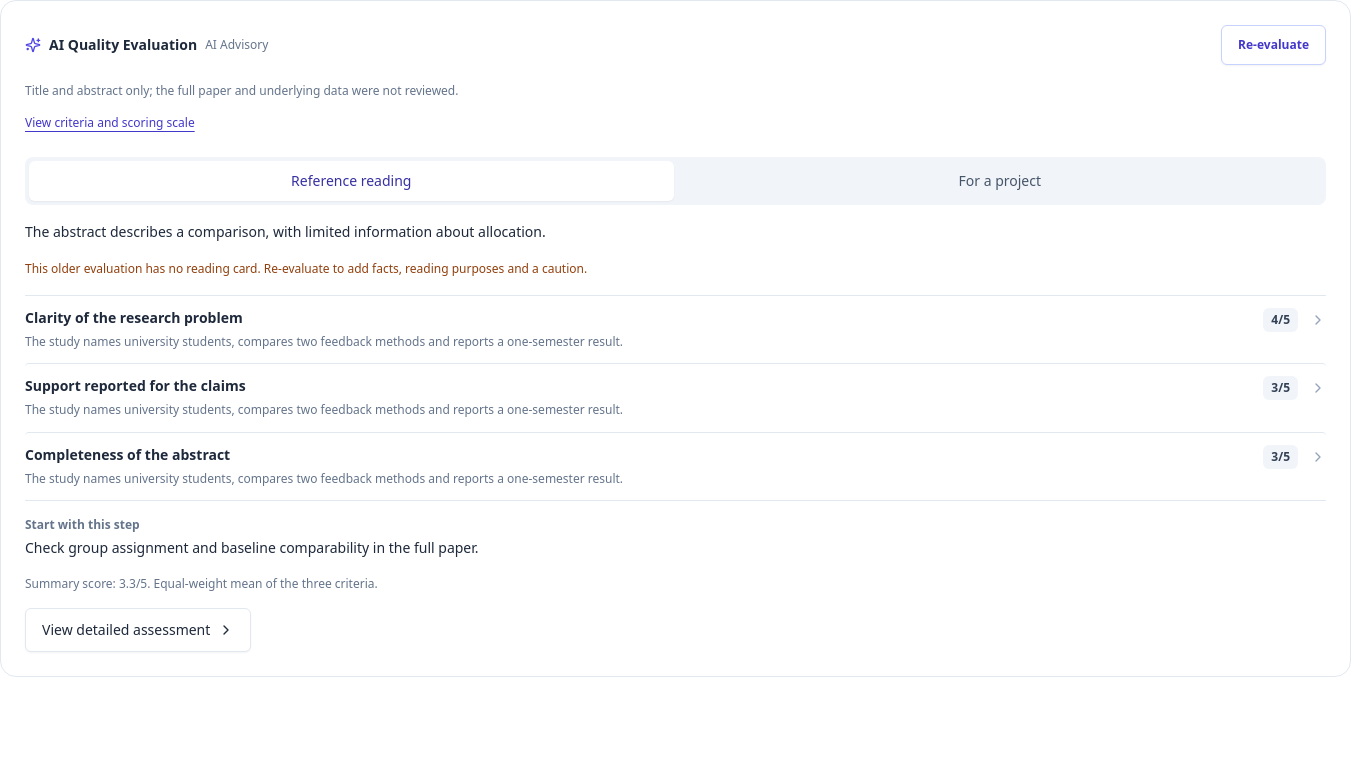
AI quality assessment reading flow › opens evidence, missing information, next steps, questions and the score explanation
The width and height of the screenshot is (1366, 768).
Step 1. Click the button "View detailed assessment" → [138, 630], box [25,608,251,652]
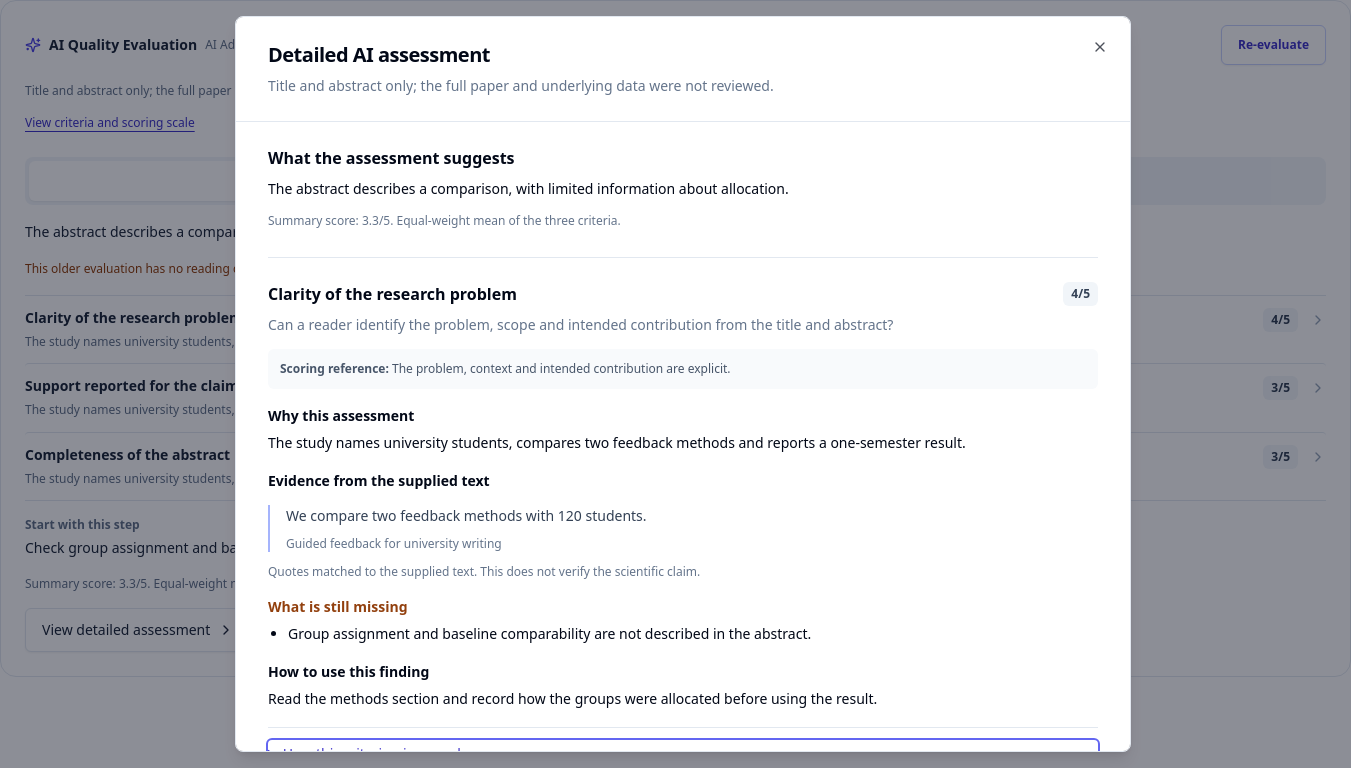
Expected: the dialog shows "Why this assessment", [268,406,414,425]
Expected: the text "We compare two feedback methods with 120 students." is shown, [286,506,647,525]
Expected: the dialog shows "3.3/5", [268,212,621,229]
